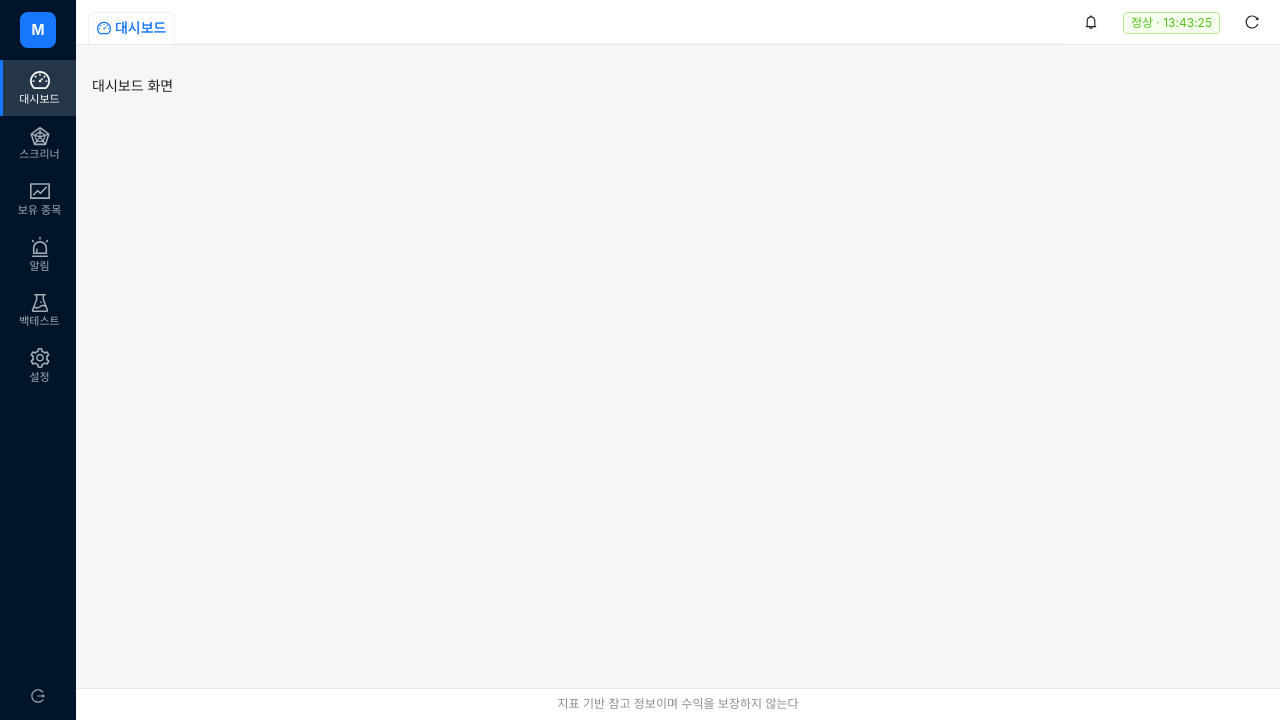
Test: AppLayout › shows the disclaimer at the bottom of every screen
Expected: the text "지표 기반 참고 정보이며 수익을 보장하지 않는다" is shown, [558, 696, 799, 711]
Click the link "설정" at (40, 366), box [29, 348, 50, 384]
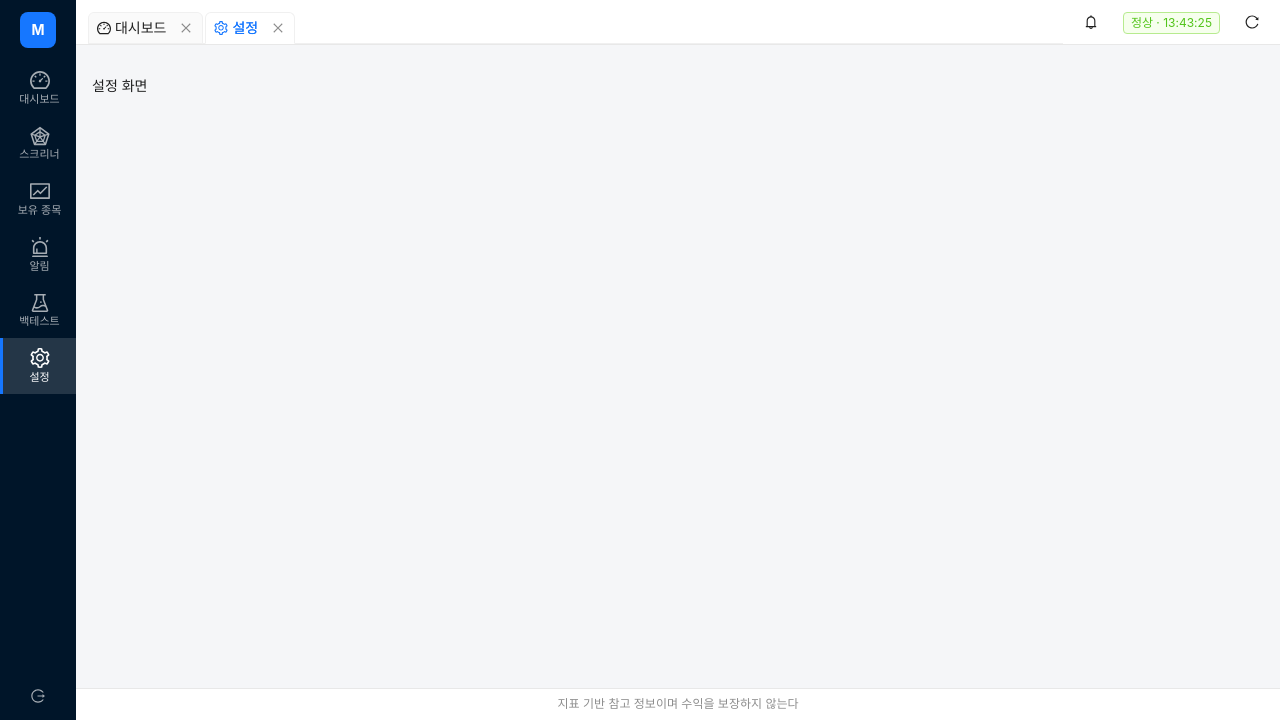
Expected: the text "지표 기반 참고 정보이며 수익을 보장하지 않는다" is shown, [558, 696, 799, 711]
Expected: the text "설정 화면" is shown, [92, 77, 148, 94]
